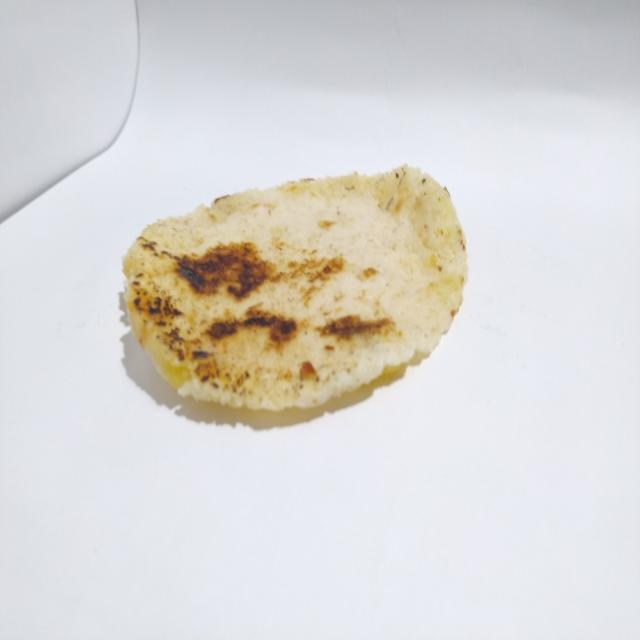Food: (110, 156, 473, 416)
